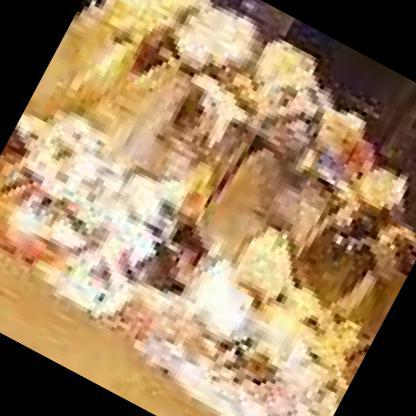Garbage: (3, 176, 226, 347), (0, 123, 151, 288), (194, 283, 364, 415), (160, 240, 294, 398), (178, 9, 327, 125), (285, 112, 415, 217), (92, 0, 242, 80)
